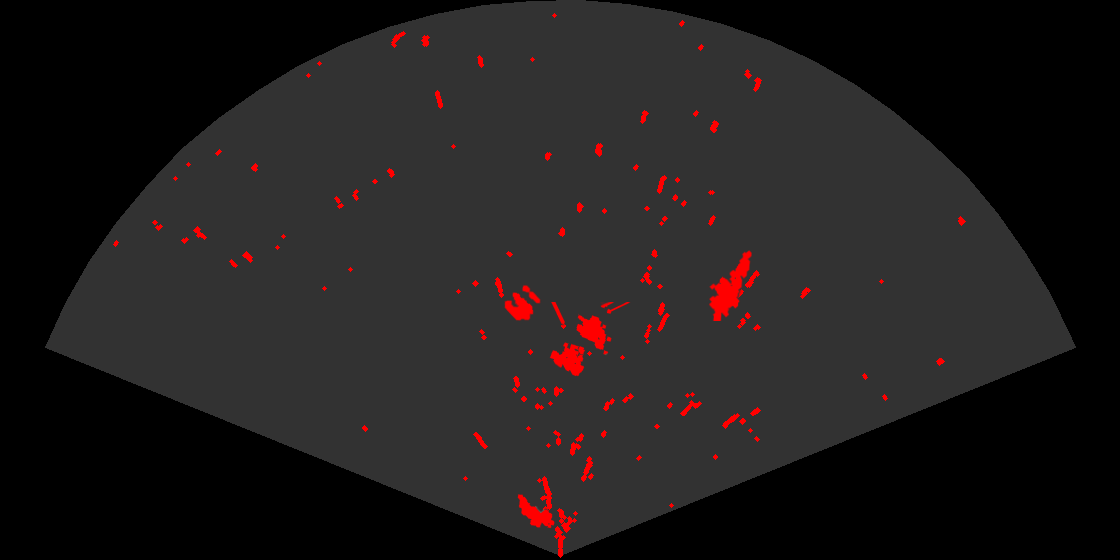AUV: (516, 493, 556, 530)
ball: (503, 283, 542, 322)
cage: (548, 302, 631, 378)
frogman: (707, 249, 753, 321)
